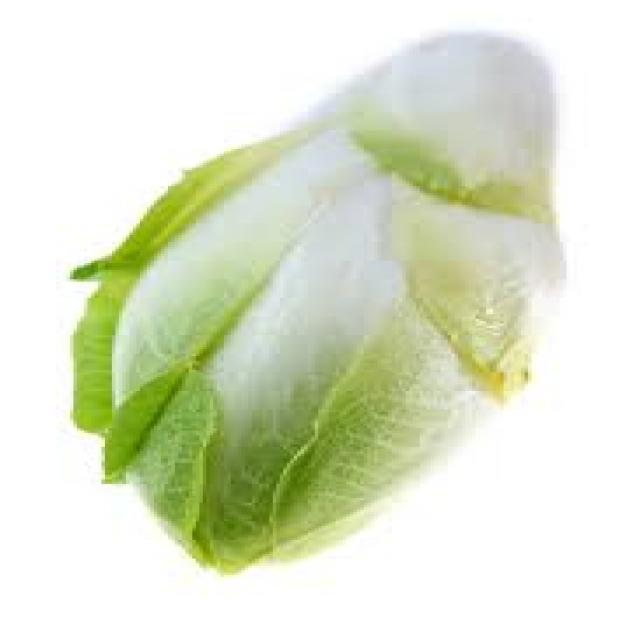organic waste: (67, 28, 560, 568)
